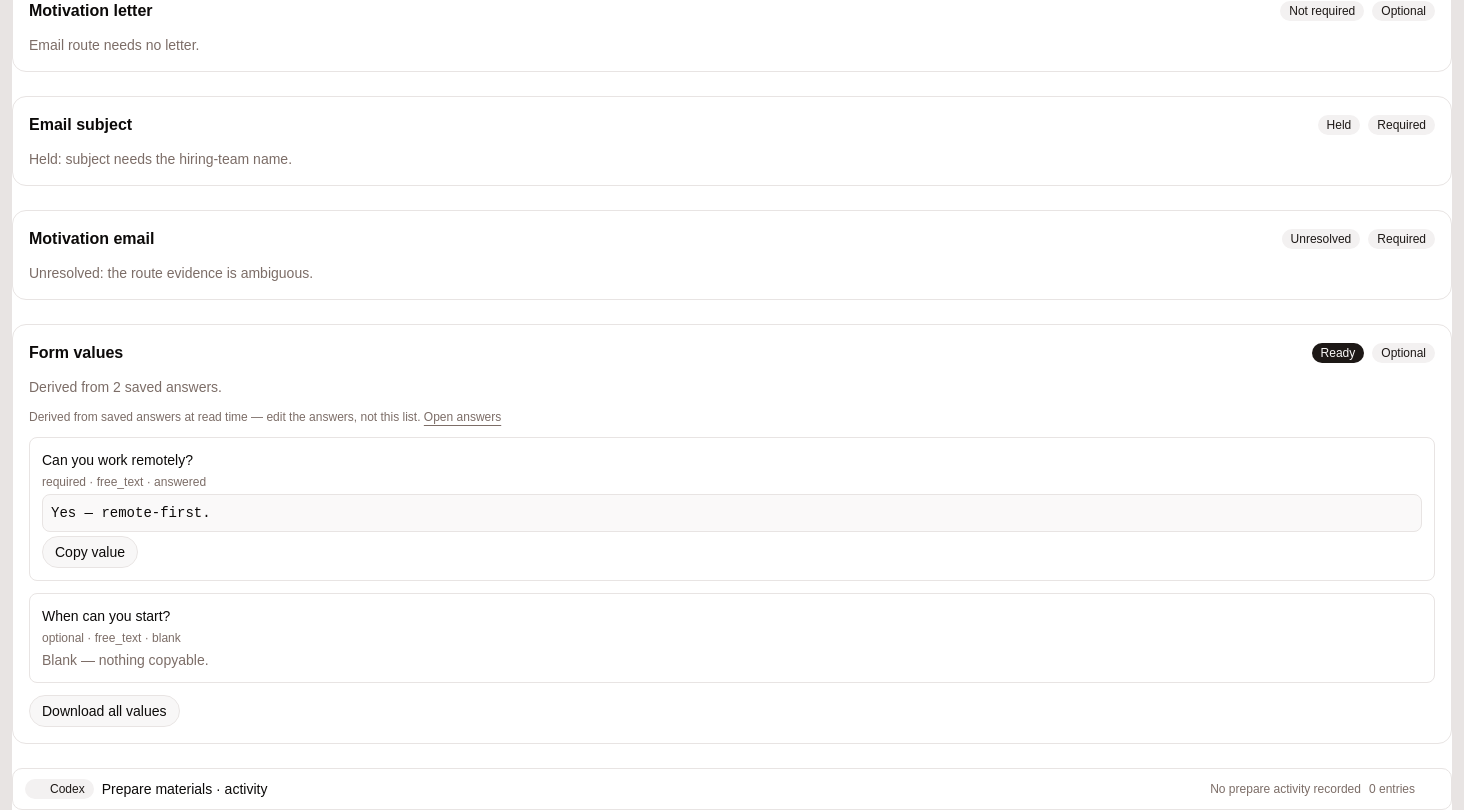
Test case: ArtifactsSection › lists derived form values with per-value copy and an answers link
The width and height of the screenshot is (1464, 810).
(page scrolled)
Expected: the text "Can you work remotely?" is shown, left=42, top=452, right=193, bottom=468
Expected: the text "Yes — remote-first." is shown, left=42, top=494, right=1422, bottom=532
Click the button with aria-label "Copy value for Can you work remotely?": (90, 552) left=42, top=536, right=138, bottom=568
(page scrolled)
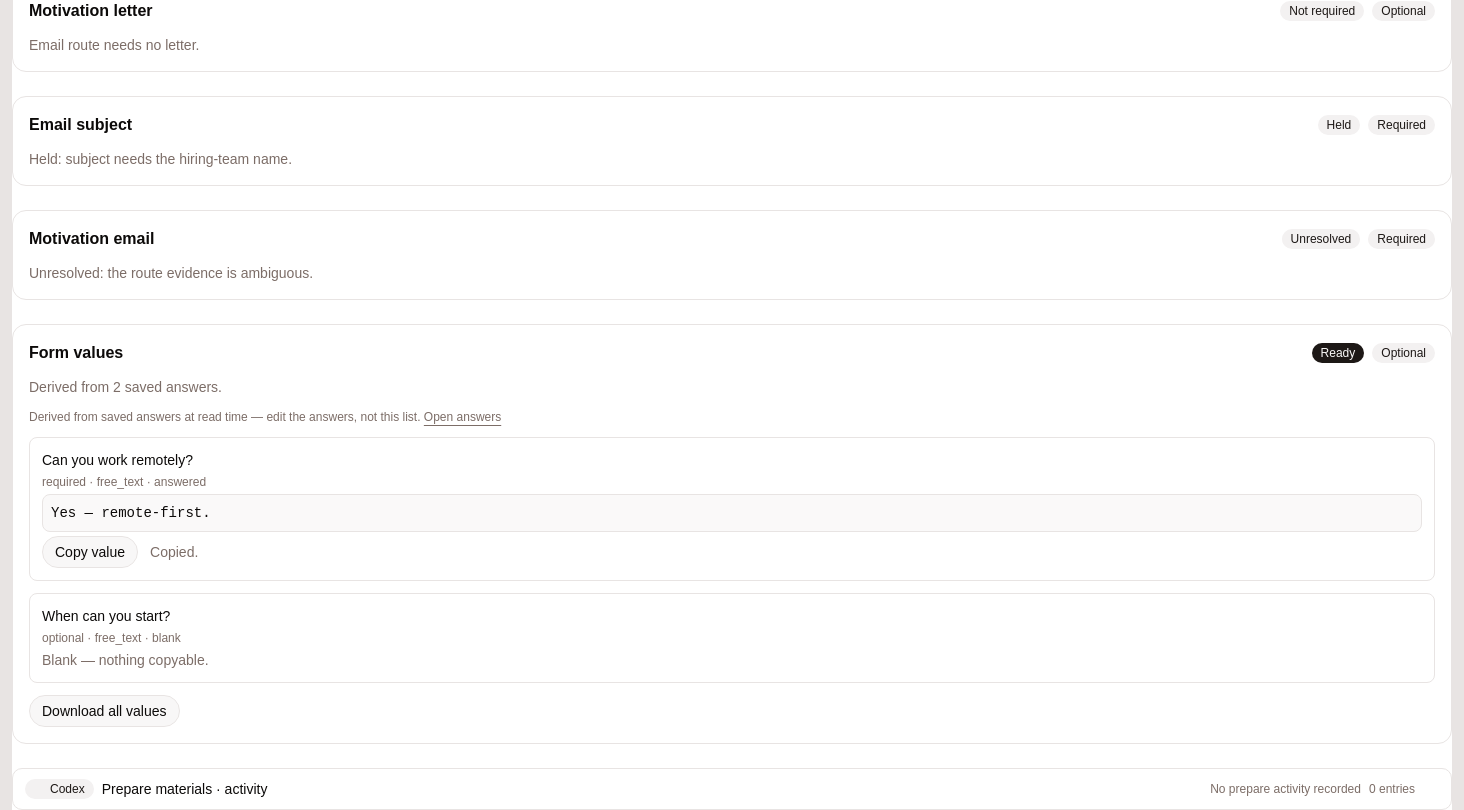
Now the text "Copied." is shown, box left=150, top=542, right=198, bottom=562
